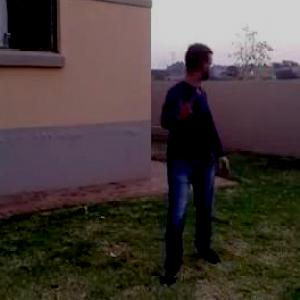takeoff-hand: (169, 85, 199, 123)
